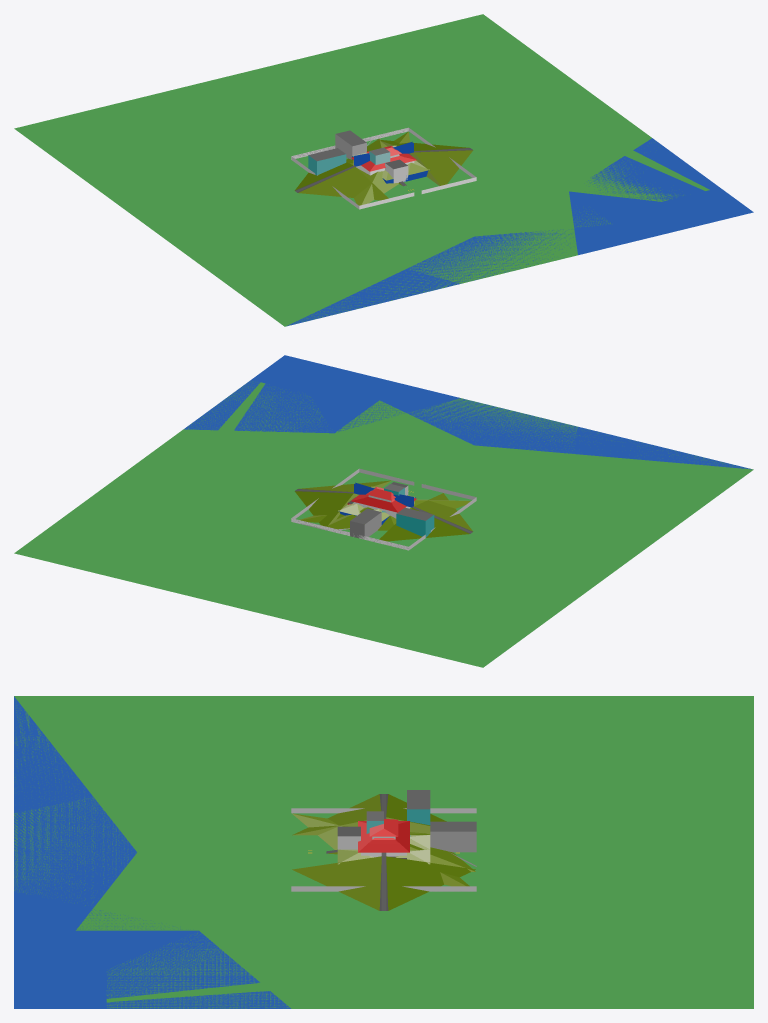
3 views of the same model, one above another, from view 1: azimuth 30°, elevation 25°; view 2: azimuth 150°, elevation 25°; view 3: azimuth 270°, elevation 25° (orthographic). The views are drawn at different scales.
Visible parts, largest first — view 1: vn_057_lod0, vn_060_lod0, vn_002_lod0, vn_058_lod0, vn_001_lod0, vn_081_lod0, vn_087_lod0, vn_070_lod0, vn_029_lod0, vn_062_lod0_s1v0, vn_003_lod0, vn_088_lod0 (+1 smaller); view 2: vn_057_lod0, vn_060_lod0, vn_002_lod0, vn_058_lod0, vn_001_lod0, vn_029_lod0, vn_087_lod0, vn_062_lod0_s1v0, vn_070_lod0, vn_081_lod0, vn_003_lod0, vn_088_lod0; view 3: vn_057_lod0, vn_060_lod0, vn_002_lod0, vn_058_lod0, vn_070_lod0, vn_081_lod0, vn_001_lod0, vn_062_lod0_s1v0, vn_029_lod0, vn_087_lod0, vn_071_lod0, vn_003_lod0 (+3 smaller).
Boxes of the visible parts, <box> form: vn_057_lod0: <box>14,14,752,326</box>; vn_060_lod0: <box>14,42,751,326</box>; vn_002_lod0: <box>416,14,651,190</box>; vn_058_lod0: <box>289,191,753,324</box>; vn_001_lod0: <box>287,269,459,325</box>; vn_081_lod0: <box>569,143,709,201</box>; vn_087_lod0: <box>294,141,413,200</box>; vn_070_lod0: <box>354,139,473,185</box>; vn_029_lod0: <box>291,127,476,209</box>; vn_062_lod0_s1v0: <box>308,130,411,175</box>; vn_003_lod0: <box>346,138,398,205</box>; vn_088_lod0: <box>297,146,413,198</box>; vn_057_lod0: <box>14,356,753,667</box>; vn_060_lod0: <box>131,355,749,667</box>; vn_002_lod0: <box>14,429,333,556</box>; vn_058_lod0: <box>285,355,750,468</box>; vn_001_lod0: <box>574,427,751,469</box>; vn_029_lod0: <box>291,468,476,550</box>; vn_087_lod0: <box>354,482,473,541</box>; vn_062_lod0_s1v0: <box>347,484,434,538</box>; vn_070_lod0: <box>294,480,413,526</box>; vn_081_lod0: <box>185,381,327,432</box>; vn_003_lod0: <box>326,499,470,530</box>; vn_088_lod0: <box>354,487,470,540</box>; vn_057_lod0: <box>14,696,753,1008</box>; vn_060_lod0: <box>14,696,753,1008</box>; vn_002_lod0: <box>200,931,753,1008</box>; vn_058_lod0: <box>14,697,198,1008</box>; vn_070_lod0: <box>292,856,475,910</box>; vn_081_lod0: <box>106,933,289,1008</box>; vn_001_lod0: <box>14,696,92,813</box>; vn_062_lod0_s1v0: <box>366,790,476,859</box>; vn_029_lod0: <box>291,808,476,891</box>; vn_087_lod0: <box>292,794,446,835</box>; vn_071_lod0: <box>296,857,469,909</box>; vn_003_lod0: <box>292,813,475,871</box>.
Size of what is drawn, in the model's own units: 4096 by 202 by 4096.
